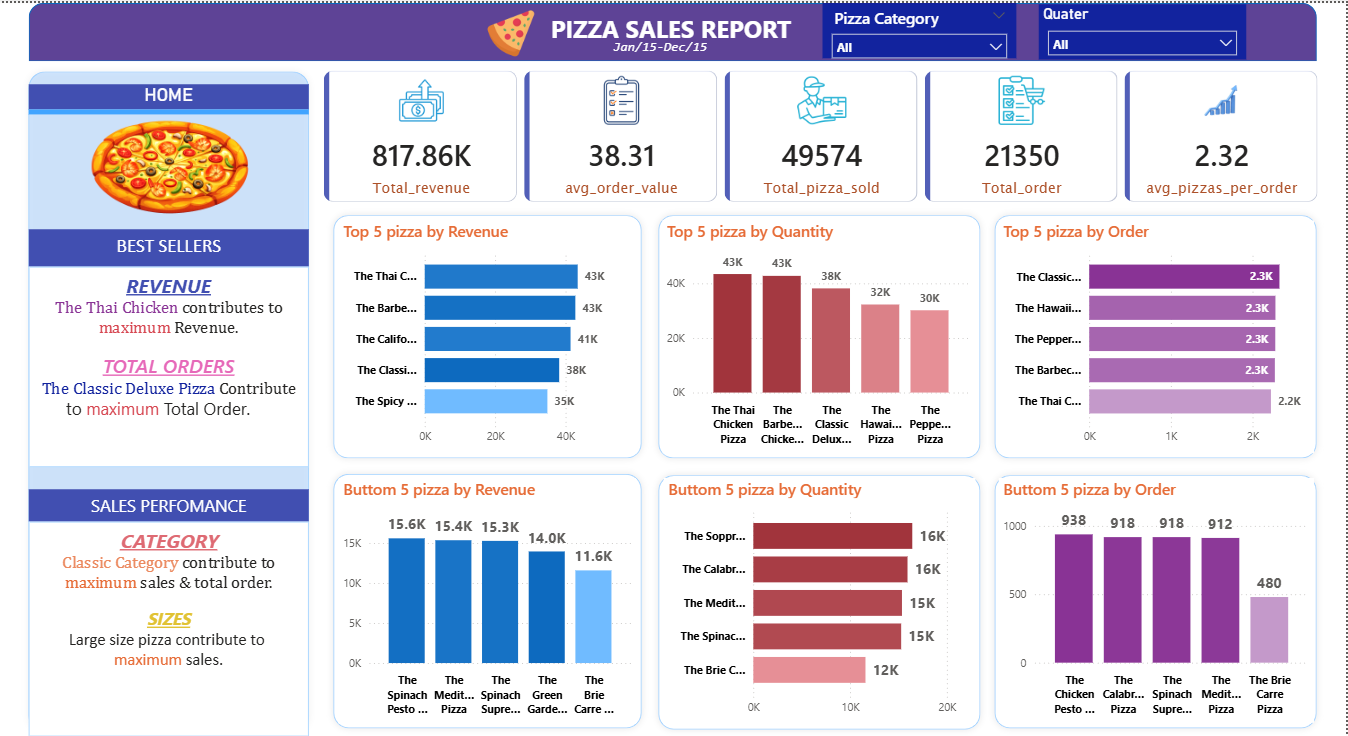

What the dashboard file says about the page in this screenshot:
{"tool":"powerbi","page":{"name":"Best/worst","canvas":[1500,820],"ordinal":1},"visuals":[{"type":"cardVisual","fields":{"Data":["pizza_sales.Total_revenue","pizza_sales.avg_order_value","pizza_sales.Total_pizza_sold","pizza_sales.Total_order","pizza_sales.avg_pizzas_per_order"]},"box":[343.8,58.8,1145,180],"z":0},{"type":"shape","box":[32.5,0,1435,65],"z":1000},{"type":"textbox","box":[608.8,6.2,282.5,52.5],"z":2000},{"type":"textbox","box":[678.2,34.8,123.9,44.6],"z":3000},{"type":"image","box":[528.8,7.5,80,53.8],"z":4000},{"type":"shape","box":[363.5,228.4,359.3,286.9],"z":5000},{"type":"shape","box":[23.7,68.2,328.7,752],"z":6000},{"type":"textbox","box":[32,252.1,312,41.8],"z":7000},{"type":"textbox","box":[32,293.9,312,222.8],"z":8000},{"type":"textbox","box":[32,541.7,312,36.2],"z":9000},{"type":"textbox","box":[32,578,312,239.5],"z":10000},{"type":"slicer","fields":{"Values":["pizza_sales.pizza_category"]},"box":[916.4,0,215.9,61.3],"z":11000},{"type":"slicer","title":"Quater","fields":{"Values":["pizza_sales.order_date.Variation.Date Hierarchy.Quarter"]},"box":[1157.3,1.4,231.2,61.3],"z":12000},{"type":"shape","box":[1100.2,228.4,374.6,286.9],"z":13000},{"type":"shape","box":[725.6,228.4,374.6,286.9],"z":14000},{"type":"shape","box":[363.5,516.7,359.3,299.4],"z":15000},{"type":"shape","box":[725.6,518.1,374.6,299.4],"z":16000},{"type":"shape","box":[1100.2,518.1,374.6,298],"z":17000},{"type":"barChart","title":"Top 5 pizza by Revenue","fields":{"Category":["pizza_sales.pizza_name"],"Y":["pizza_sales.Total_revenue"]},"box":[377.9,242.8,331.3,258.9],"z":18000},{"type":"columnChart","title":"Buttom 5 pizza by Revenue","fields":{"Category":["pizza_sales.pizza_name"],"Y":["pizza_sales.Total_revenue"]},"box":[377.9,529.1,331.3,273.4],"z":19000},{"type":"columnChart","title":"Top 5 pizza by Quantity","fields":{"Category":["pizza_sales.pizza_name"],"Y":["pizza_sales.Total_revenue"]},"box":[738.1,242.8,347.3,258.9],"z":20000},{"type":"barChart","title":"Buttom 5 pizza by Quantity","fields":{"Category":["pizza_sales.pizza_name"],"Y":["pizza_sales.Total_revenue"]},"box":[739.7,529.1,347.3,273.4],"z":21000},{"type":"clusteredBarChart","title":"Top 5 pizza by Order","fields":{"Category":["pizza_sales.pizza_name"],"Y":["pizza_sales.Total_order"]},"box":[1112.7,242.3,351,259],"z":22000},{"type":"columnChart","title":"Buttom 5 pizza by Order","fields":{"Category":["pizza_sales.pizza_name"],"Y":["pizza_sales.Total_order"]},"box":[1112.7,529.2,351,273],"z":23000},{"type":"image","box":[32,123.9,312,128.1],"z":24000},{"type":"actionButton","title":"HOME","box":[32,90.5,312,33.4],"z":25000}]}

Visuals, with their boxes in screenshot pixels (x1, y1, x2, y2), scaled from the page's 1500x820 canvas onto the 1348x736 screenshot:
cardVisual - pizza_sales.Total_revenue x pizza_sales.avg_order_value: bbox=[309, 53, 1338, 214]
shape: bbox=[29, 0, 1319, 58]
textbox: bbox=[547, 6, 801, 53]
textbox: bbox=[609, 31, 721, 71]
image: bbox=[475, 7, 547, 55]
shape: bbox=[327, 205, 650, 463]
shape: bbox=[21, 61, 317, 735]
textbox: bbox=[29, 226, 309, 264]
textbox: bbox=[29, 264, 309, 464]
textbox: bbox=[29, 486, 309, 519]
textbox: bbox=[29, 519, 309, 734]
slicer - pizza_sales.pizza_category: bbox=[824, 0, 1018, 55]
"Quater" slicer: bbox=[1040, 1, 1248, 56]
shape: bbox=[989, 205, 1325, 463]
shape: bbox=[652, 205, 989, 463]
shape: bbox=[327, 464, 650, 732]
shape: bbox=[652, 465, 989, 734]
shape: bbox=[989, 465, 1325, 732]
"Top 5 pizza by Revenue" barChart: bbox=[340, 218, 637, 450]
"Buttom 5 pizza by Revenue" columnChart: bbox=[340, 475, 637, 720]
"Top 5 pizza by Quantity" columnChart: bbox=[663, 218, 975, 450]
"Buttom 5 pizza by Quantity" barChart: bbox=[665, 475, 977, 720]
"Top 5 pizza by Order" clusteredBarChart: bbox=[1000, 217, 1315, 450]
"Buttom 5 pizza by Order" columnChart: bbox=[1000, 475, 1315, 720]
image: bbox=[29, 111, 309, 226]
"HOME" actionButton: bbox=[29, 81, 309, 111]
